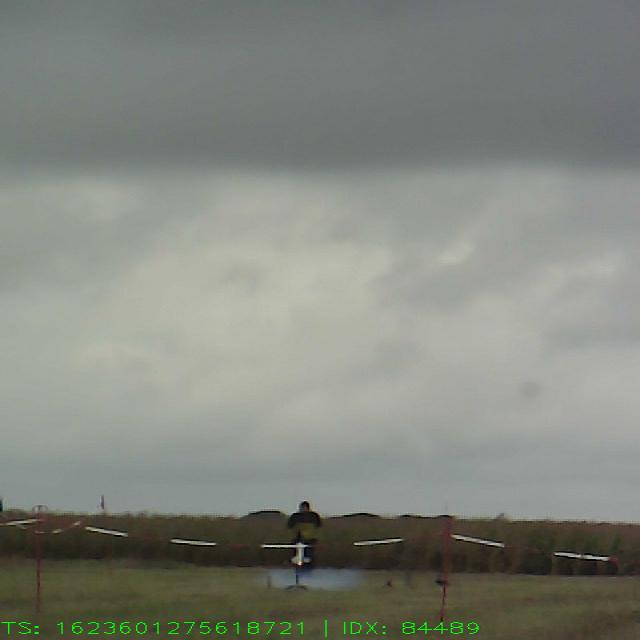Rocket: (289, 529, 311, 565)
